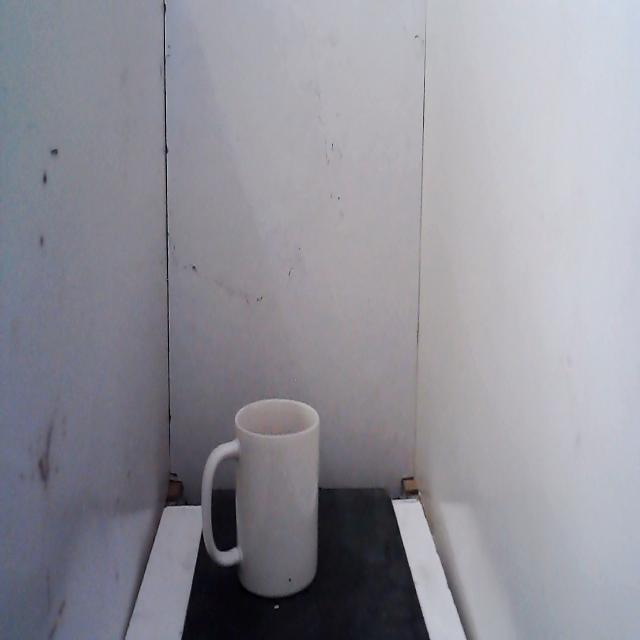glass: (194, 387, 327, 610)
